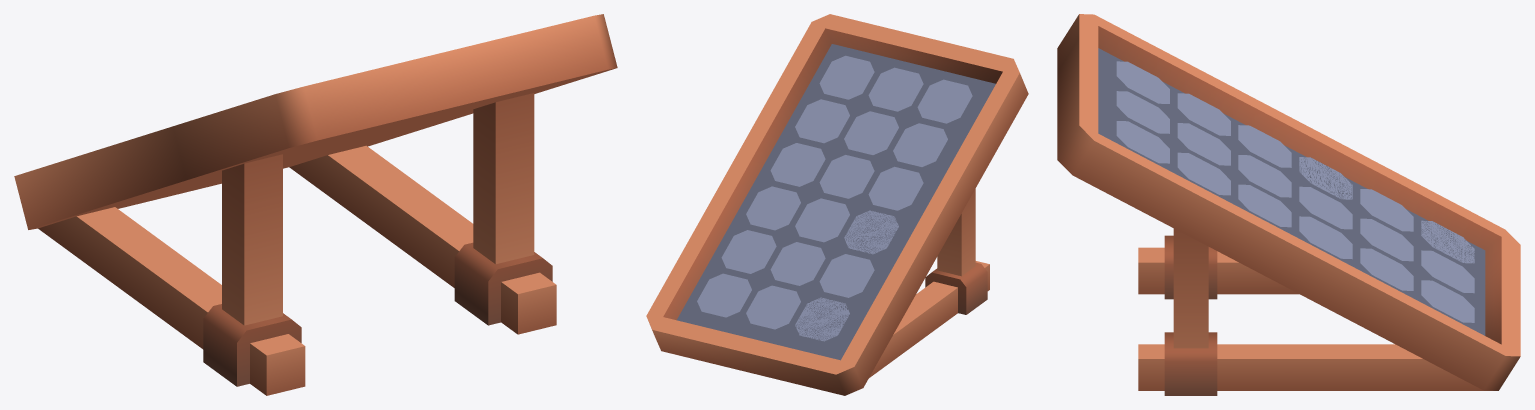
The model's file is solar-panel-portrait.glb.
The picture shows the model from 3 angles, left to right: view 1: azimuth 30°, elevation 25°; view 2: azimuth 150°, elevation 25°; view 3: azimuth 270°, elevation 25°; orthographic projection. The views are drawn at different scales.
Visible parts, largest first — view 1: solar-panel-portrait; view 2: solar-panel-portrait; view 3: solar-panel-portrait.
Boxes of the visible parts, box(x1,y1,x2,y2) form: solar-panel-portrait: box(14, 14, 617, 395); solar-panel-portrait: box(646, 14, 1028, 395); solar-panel-portrait: box(1057, 14, 1520, 395).
Bounding box in the file's own units: 0.4182 × 0.41 × 0.6486.
Materials: 2 (2 with a texture image).
